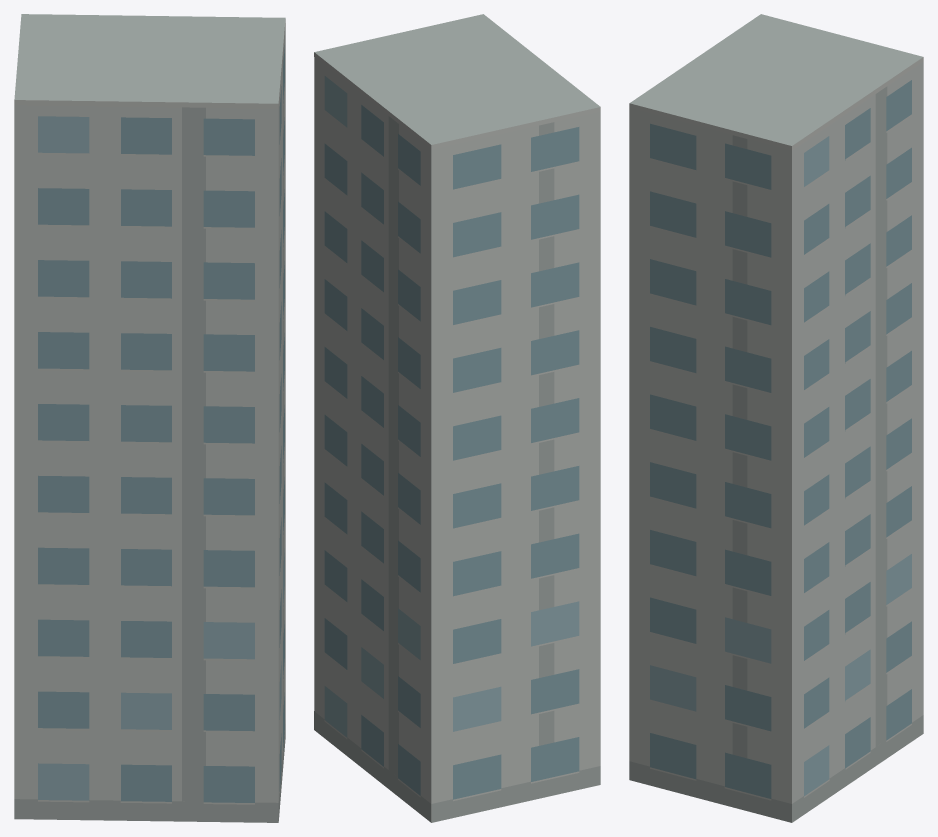
The model's file is residential-9879174d-1a58-40af-a480-039eb447649a.glb.
3 views of the same model, side by side, from view 1: azimuth 30°, elevation 25°; view 2: azimuth 150°, elevation 25°; view 3: azimuth 270°, elevation 25° (orthographic). The views are drawn at different scales.
Visible parts, largest first — view 1: residential-9879174d-1a58-40af-a480-039eb447649a.tmp; view 2: residential-9879174d-1a58-40af-a480-039eb447649a.tmp; view 3: residential-9879174d-1a58-40af-a480-039eb447649a.tmp.
Part boxes in pixels (bbox=[...]): residential-9879174d-1a58-40af-a480-039eb447649a.tmp: bbox=[14, 14, 285, 822]; residential-9879174d-1a58-40af-a480-039eb447649a.tmp: bbox=[314, 14, 600, 822]; residential-9879174d-1a58-40af-a480-039eb447649a.tmp: bbox=[629, 14, 923, 822].
Size of the model in its own units: 14.66 by 35 by 13.79.
